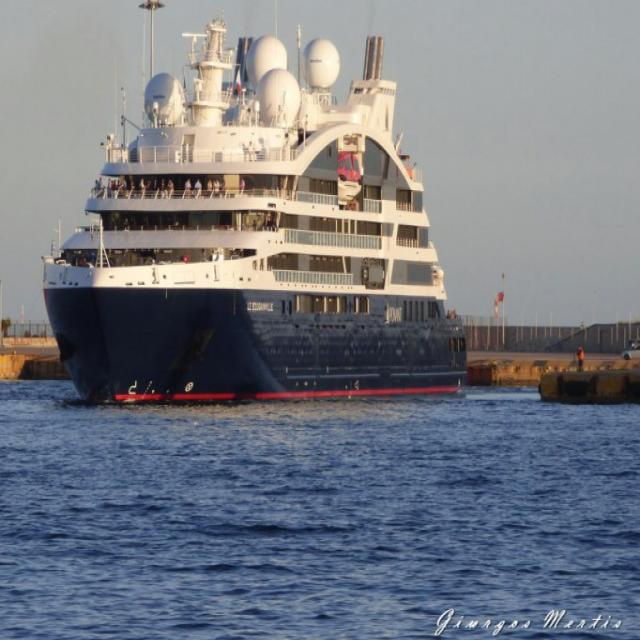cruises: (41, 25, 473, 415)
